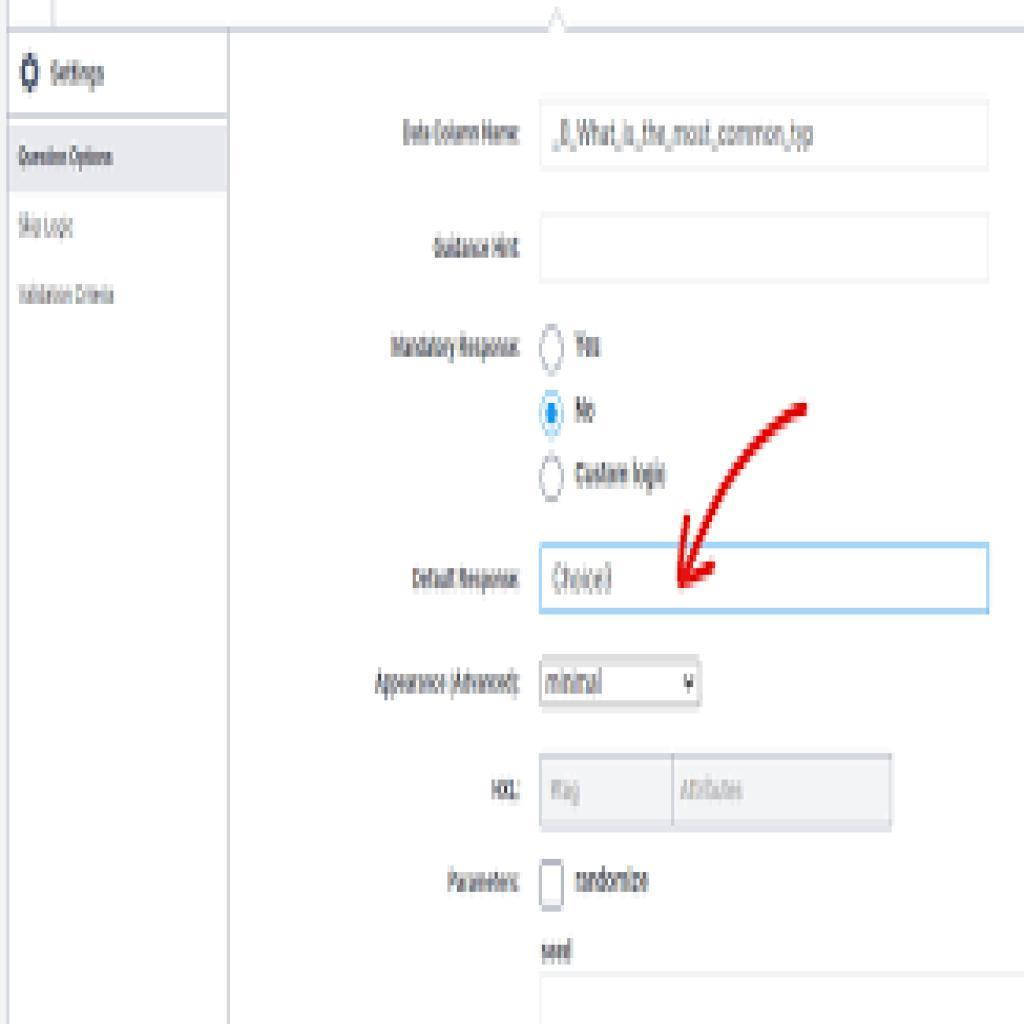checkbox: (540, 856, 565, 906)
dropdown: (537, 654, 705, 710)
input: (536, 102, 991, 172), (540, 213, 990, 282), (541, 545, 990, 609), (677, 757, 890, 831), (541, 757, 676, 831)
radio: (535, 382, 568, 451), (534, 313, 566, 383), (539, 440, 563, 521)
